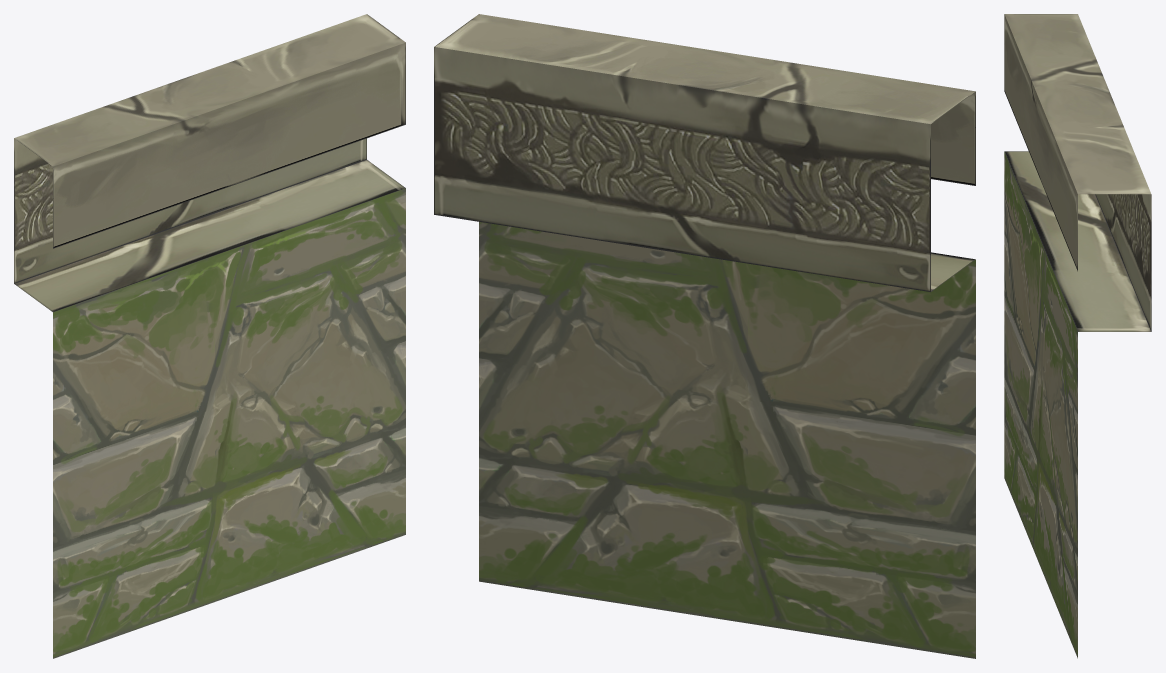
Rendered from longcurve_top4.fbx.
3 renders of one model, left to right at view 1: azimuth 30°, elevation 25°; view 2: azimuth 150°, elevation 25°; view 3: azimuth 270°, elevation 25°, orthographic. The views are drawn at different scales.
Visible parts, largest first — view 1: round_tl_4_v; view 2: round_tl_4_v; view 3: round_tl_4_v.
Boxes of the visible parts, <box> form: round_tl_4_v: <box>14,14,405,658</box>; round_tl_4_v: <box>434,14,975,658</box>; round_tl_4_v: <box>1004,14,1151,658</box>.
Size of the model in its own units: 2 by 2.4 by 0.689.
